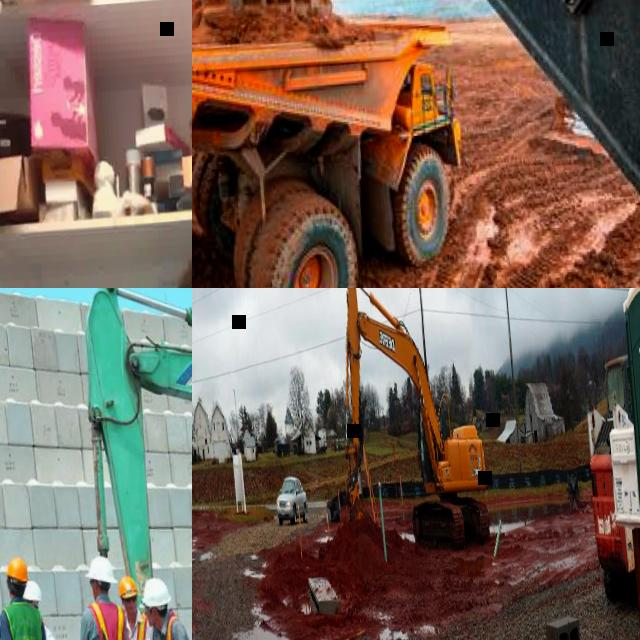Hardhat: (85, 552, 115, 583), (140, 575, 170, 605), (117, 573, 138, 599), (5, 556, 26, 580), (21, 580, 40, 603)
NO-Mask: (146, 611, 160, 626), (125, 600, 138, 614), (90, 588, 98, 598)
Person: (70, 549, 144, 640), (0, 552, 64, 640), (17, 578, 77, 640), (116, 570, 169, 640)
Safety Vest: (80, 596, 130, 640), (2, 596, 48, 640), (153, 606, 192, 640), (119, 605, 156, 640)
vehicle: (192, 0, 640, 288), (192, 0, 482, 288), (305, 288, 492, 564), (71, 288, 192, 640), (579, 351, 640, 608), (274, 472, 310, 525)
